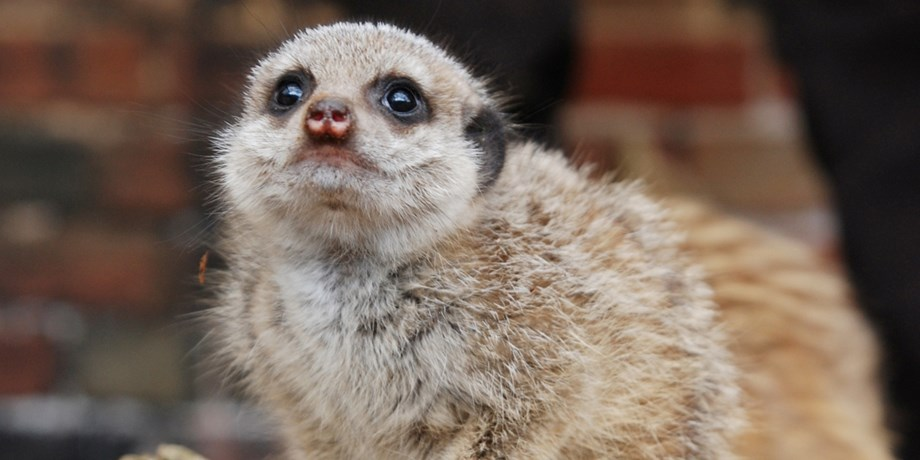meerkat: (192, 6, 794, 460)
